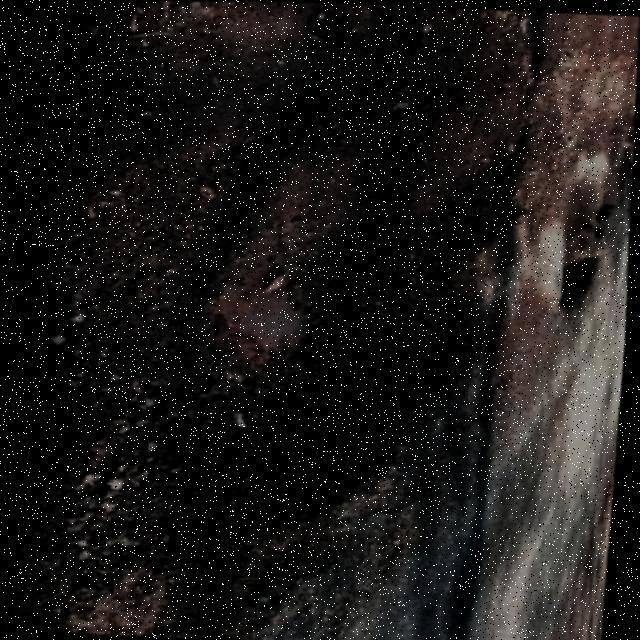pothole: (48, 115, 503, 555), (545, 183, 633, 309)
